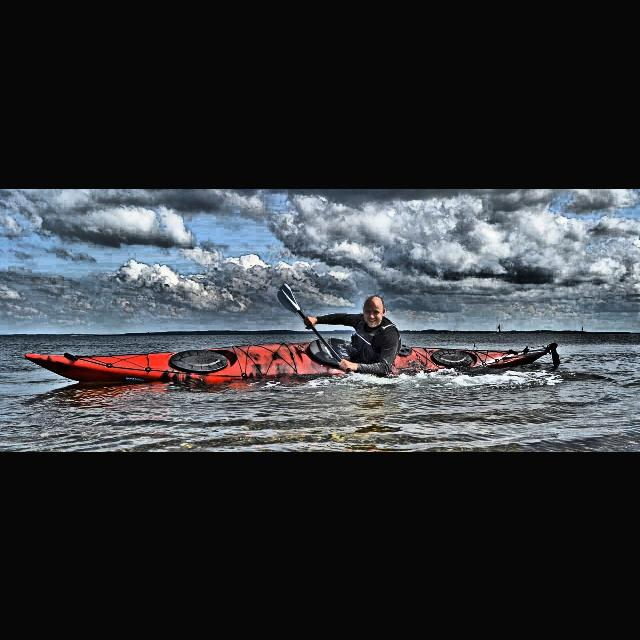kayak: (25, 336, 558, 382)
